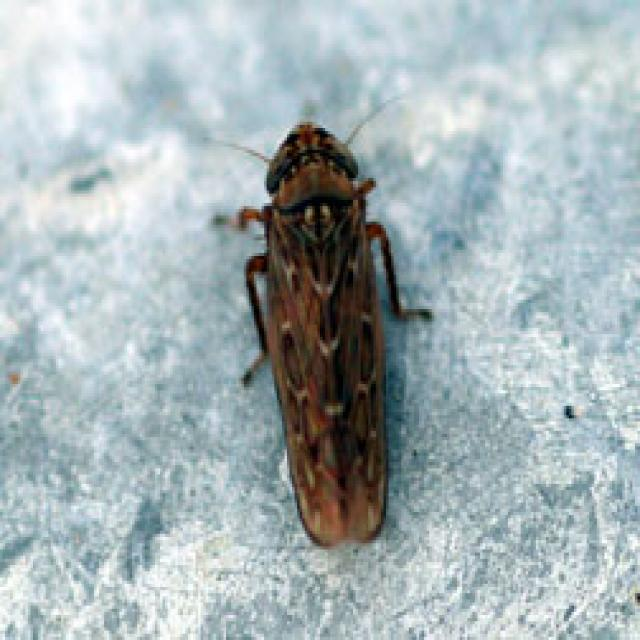Yechan: (235, 102, 440, 570)
